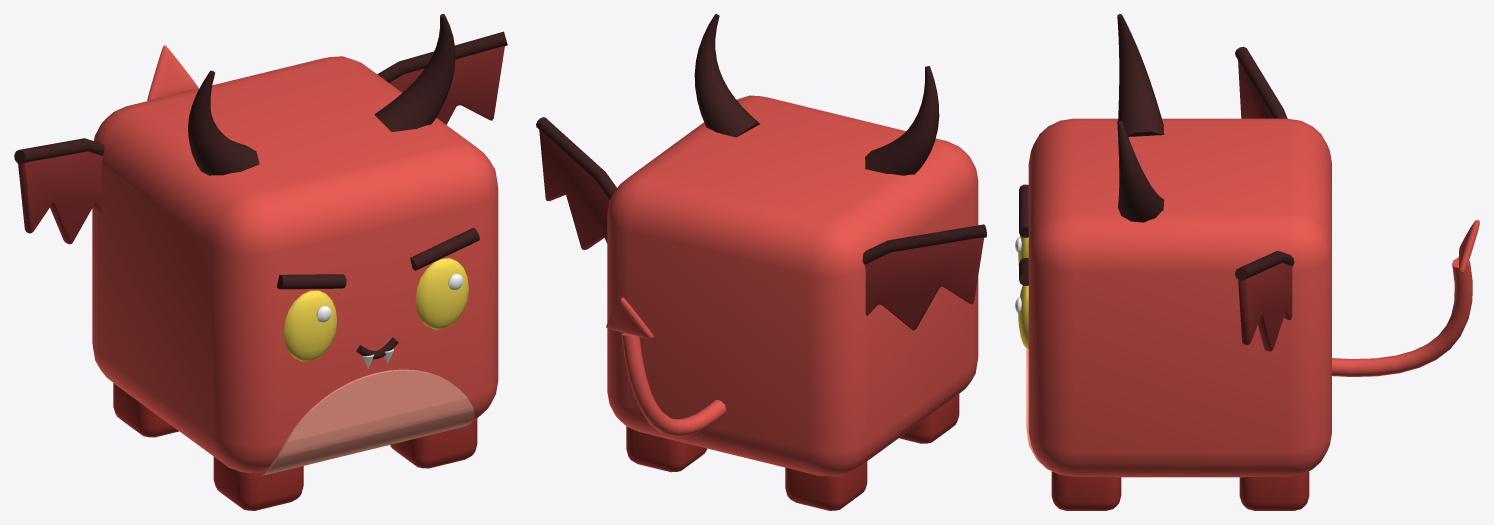
The model's file is Imp.fbx.
3 views of the same model, side by side, from view 1: azimuth 30°, elevation 25°; view 2: azimuth 150°, elevation 25°; view 3: azimuth 270°, elevation 25° (orthographic). The views are drawn at different scales.
Visible parts, largest first — view 1: Imp; view 2: Imp; view 3: Imp.
Boxes of the visible parts, x1,y1,x2,y2 form: Imp: (14, 14, 507, 510); Imp: (536, 14, 986, 510); Imp: (1015, 14, 1479, 510).
Bounding box in the file's own units: 3.5 × 2.87 × 3.06.
Materials: 1 (1 with a texture image).
